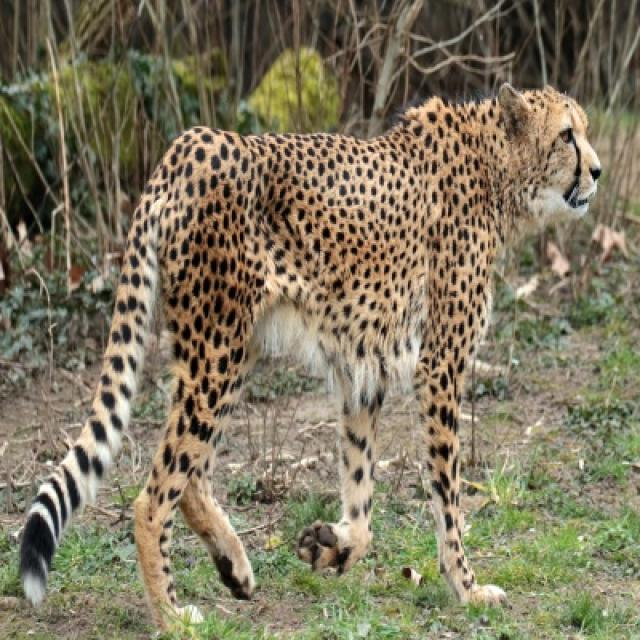Cheetah: (13, 83, 606, 632)
